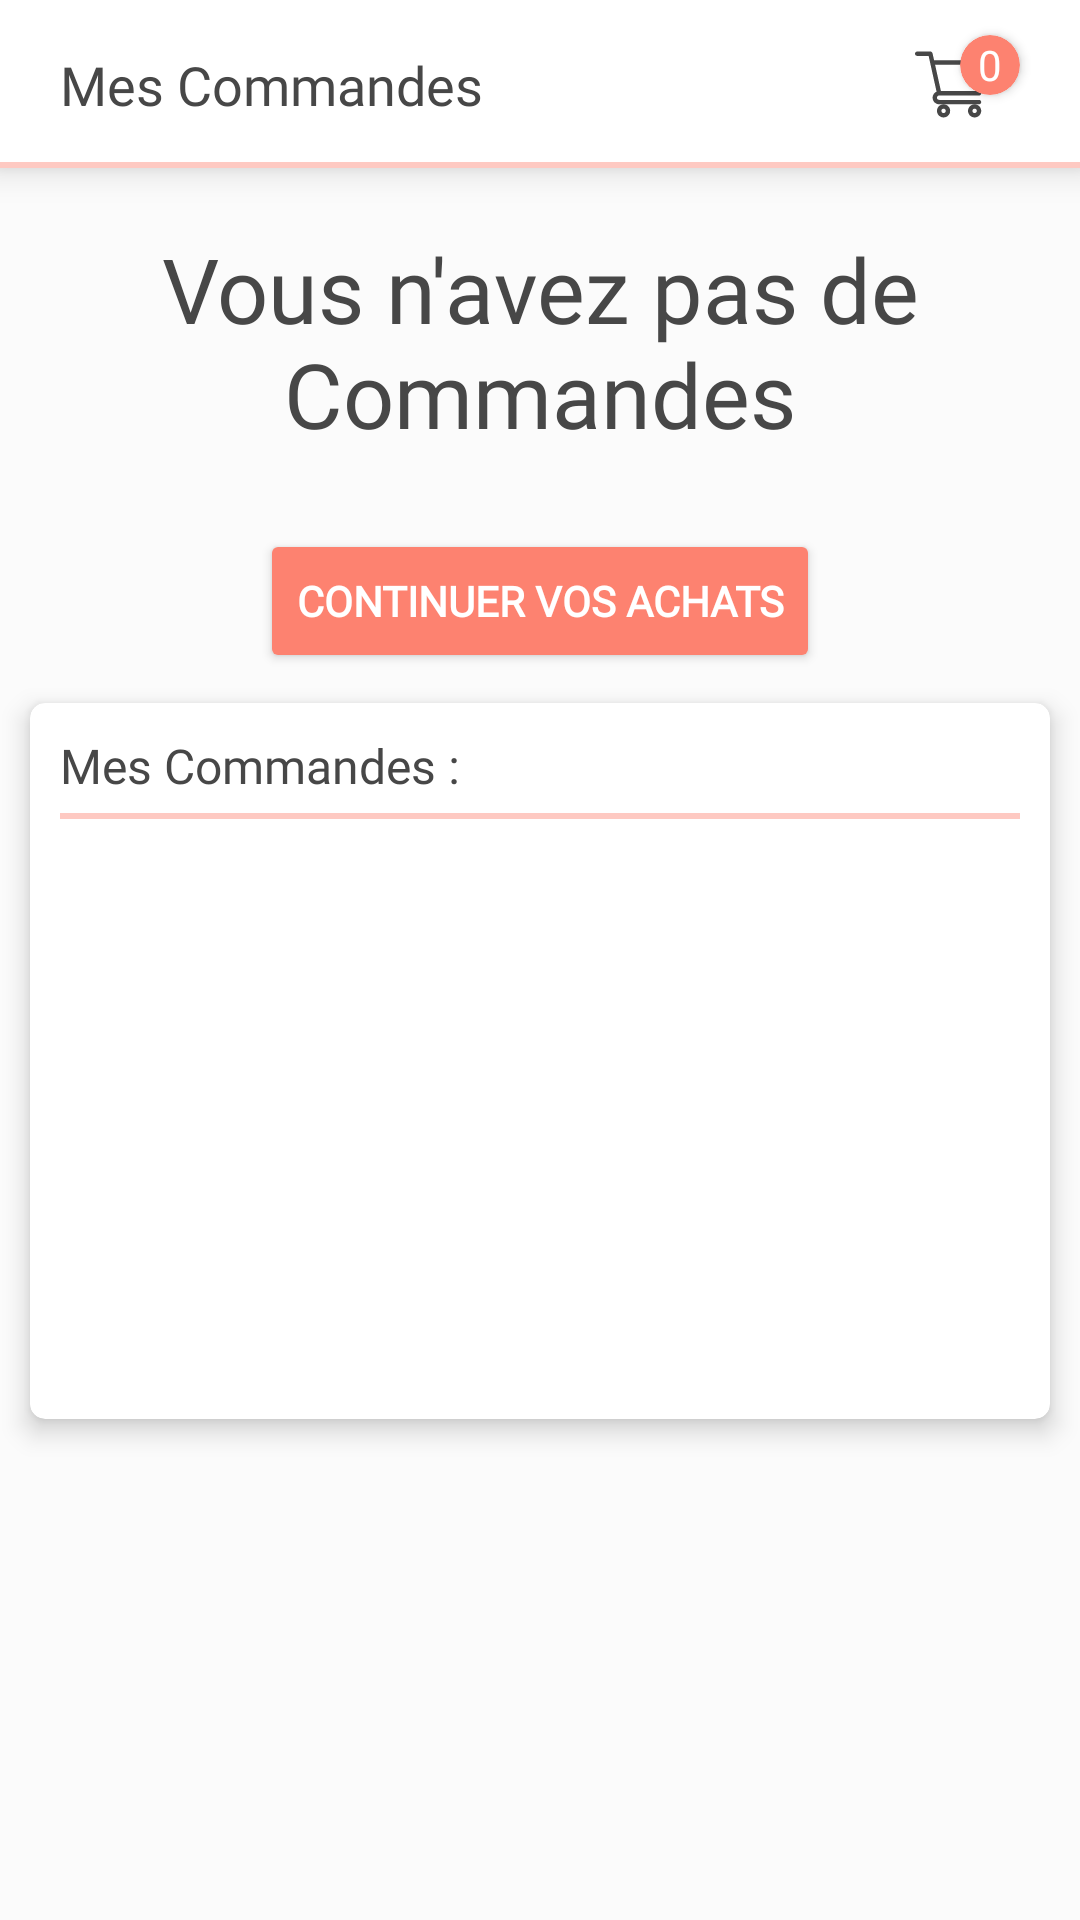

Named icons in this screenshot (1080px×1920px) and their centers, [x,y]:
commerce and shopping: [952,82]
